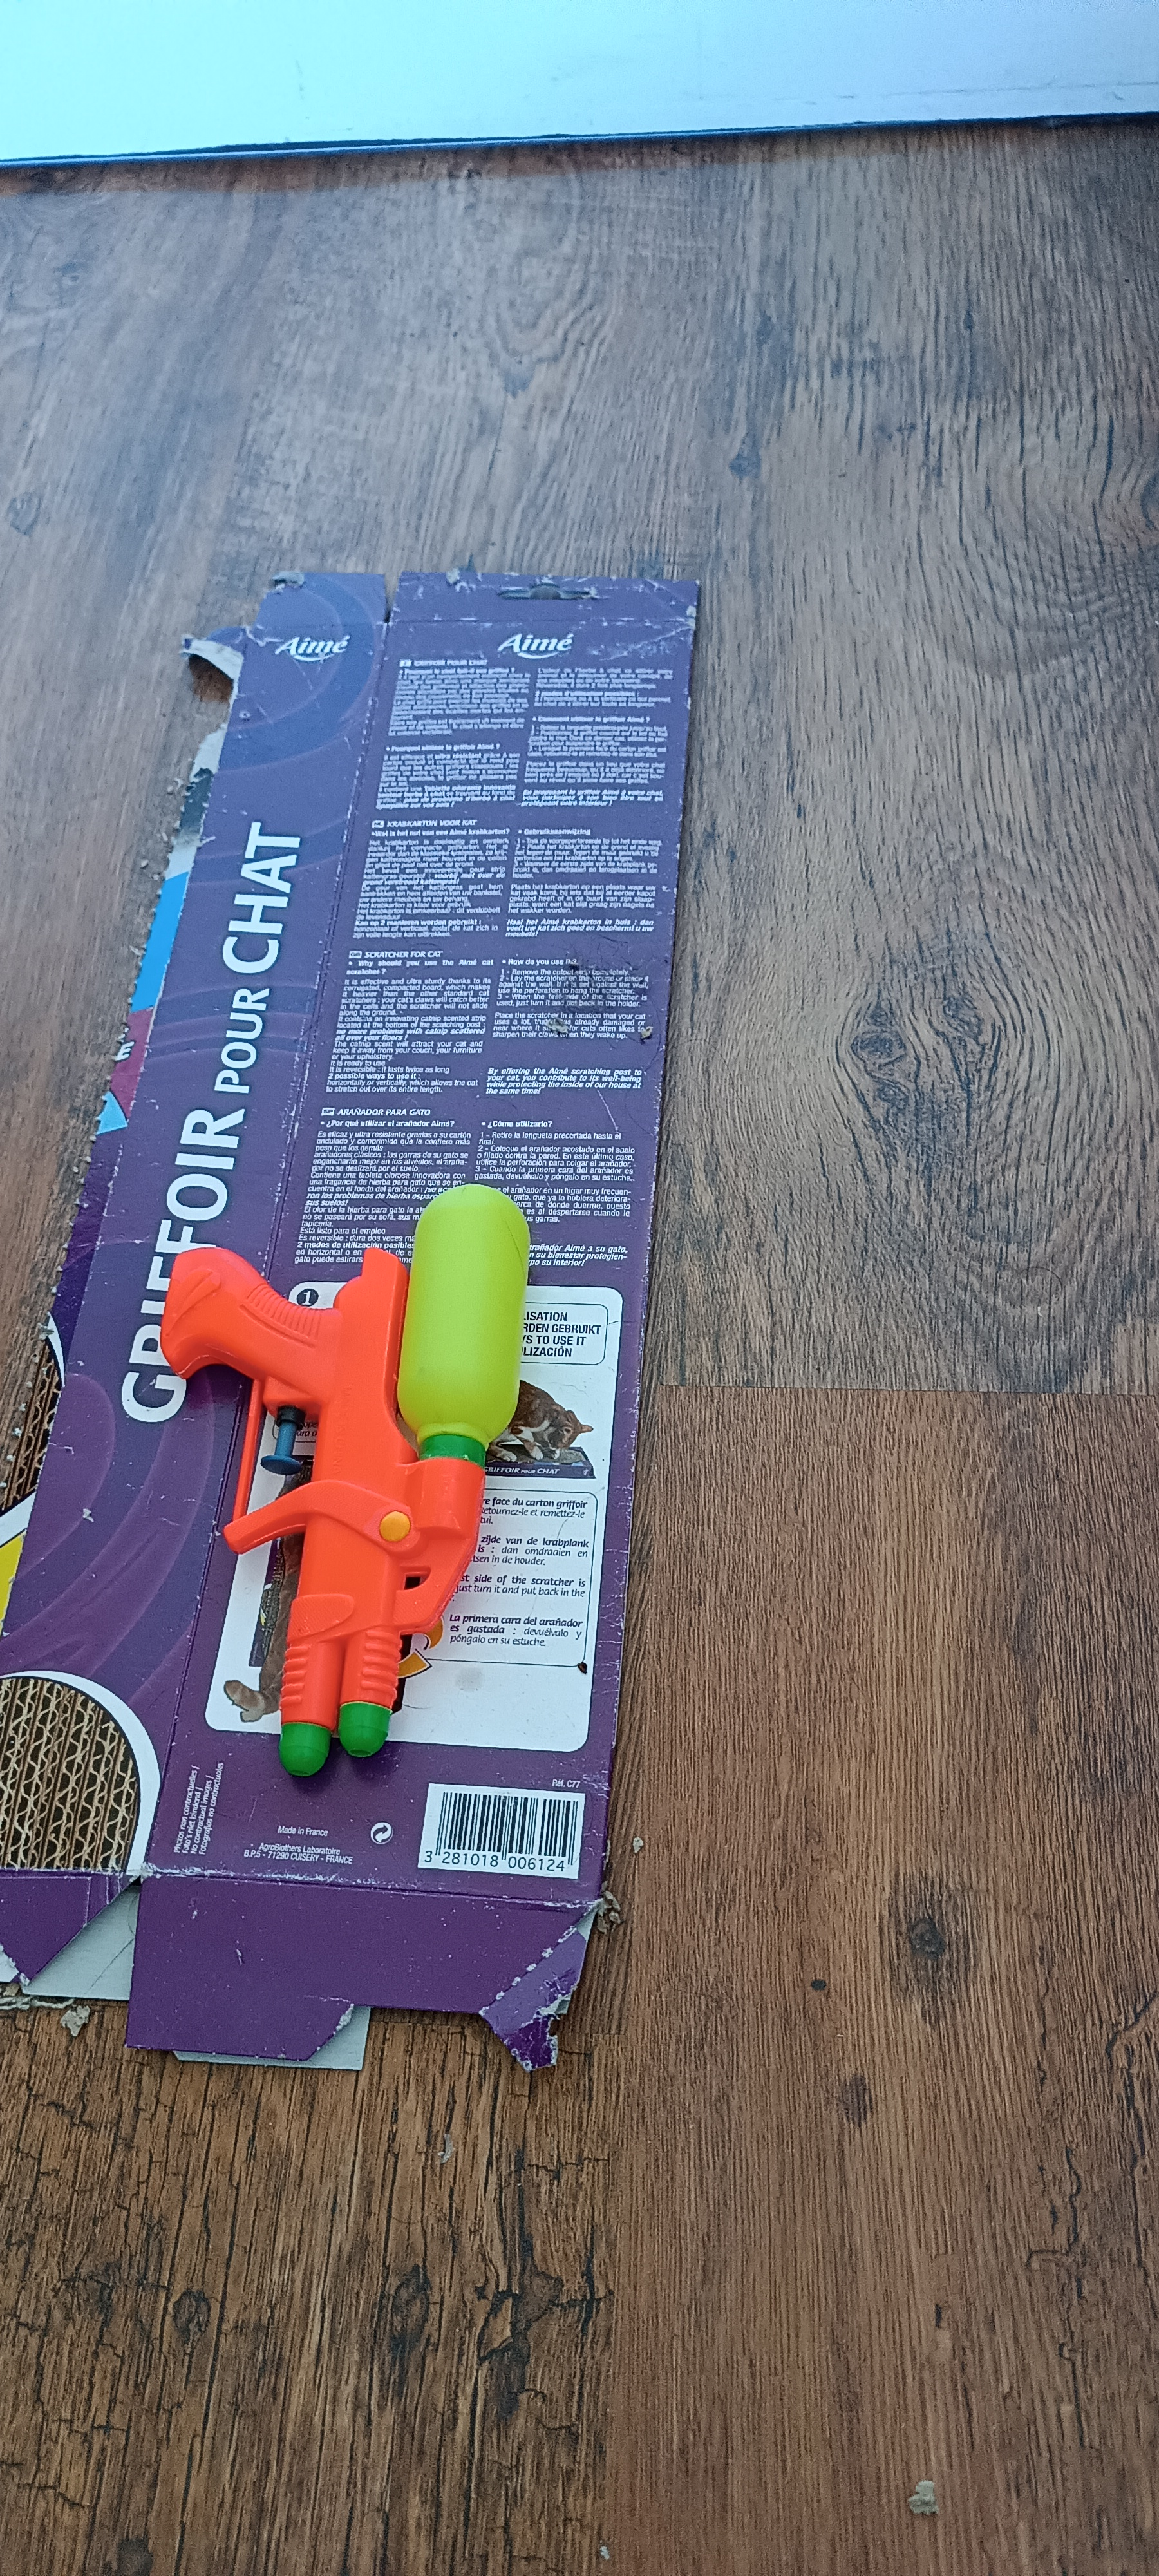Water Gun: (159, 1183, 529, 1776)
